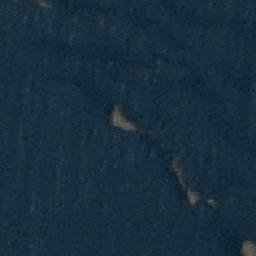debris: (108, 104, 135, 129), (171, 158, 186, 183), (241, 238, 256, 253), (188, 187, 201, 203), (36, 2, 54, 12), (207, 198, 216, 206)
